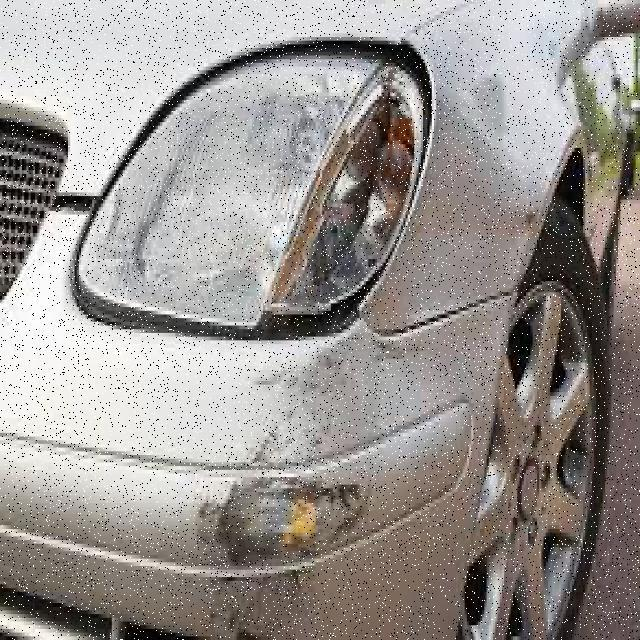front-bumper-dent: (112, 336, 516, 636)
